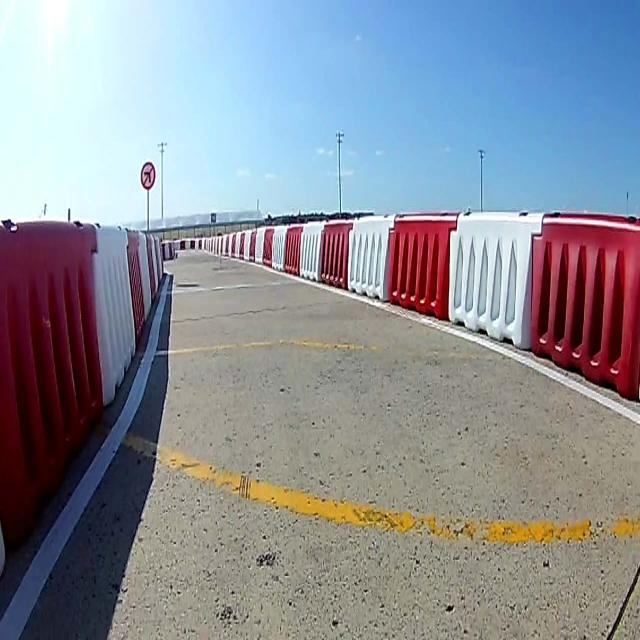soladonulmez: (142, 160, 155, 192)
